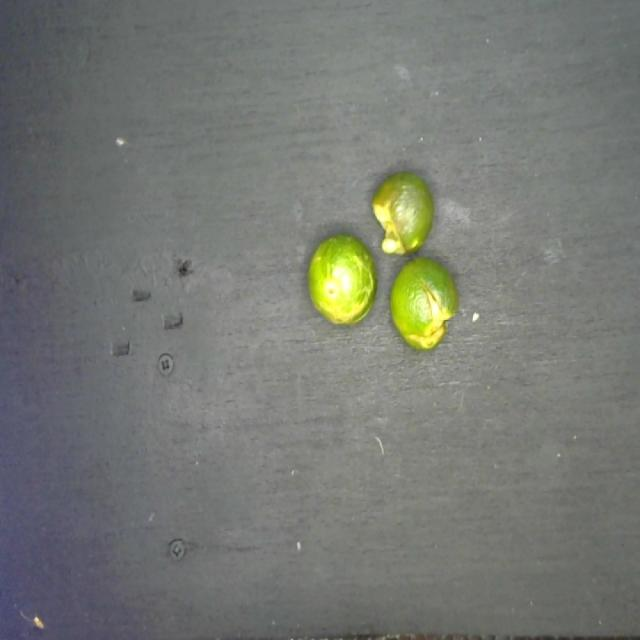biodegradable: (303, 154, 461, 364)
